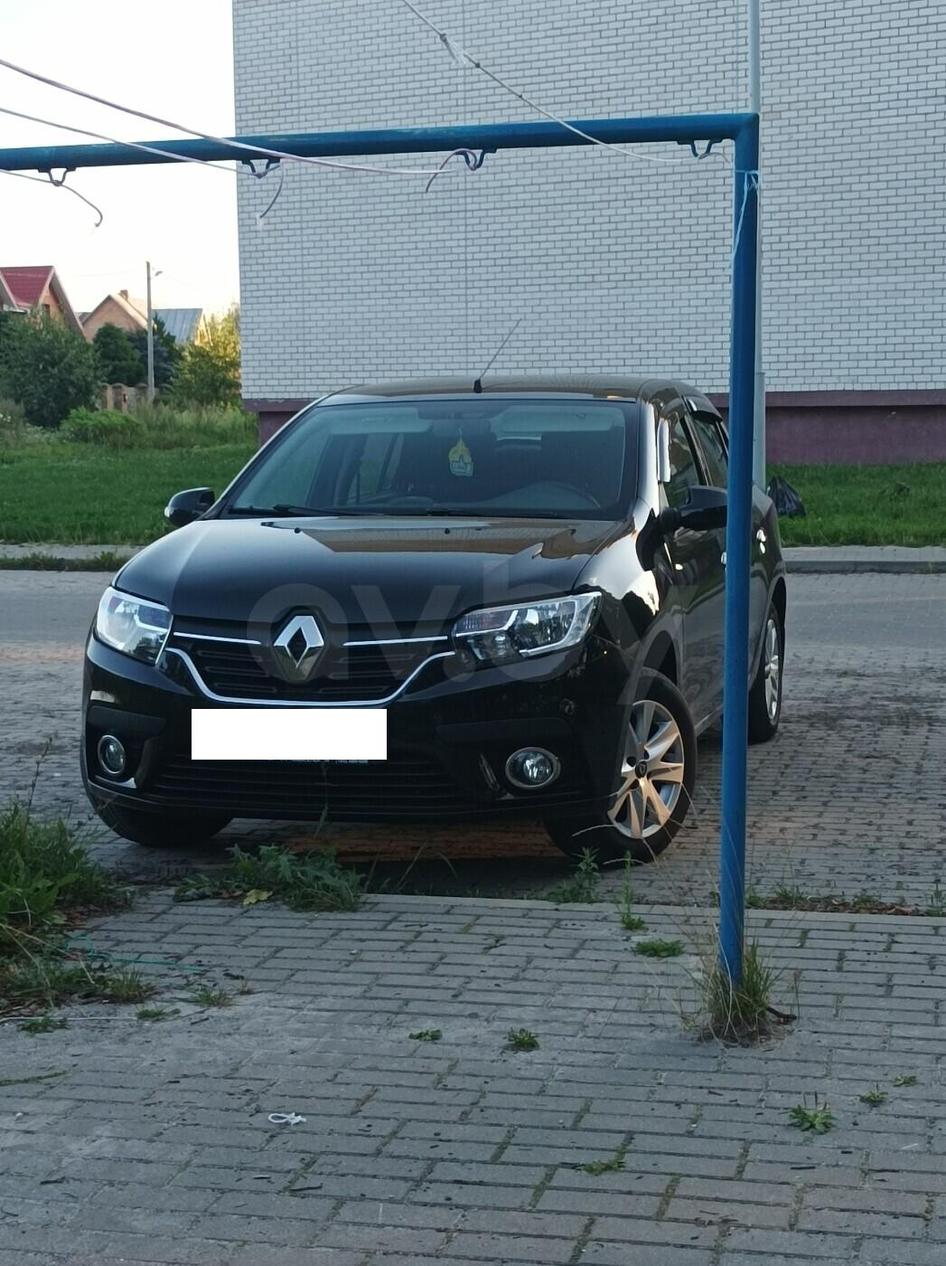Logan_2018: (80, 365, 797, 874)
